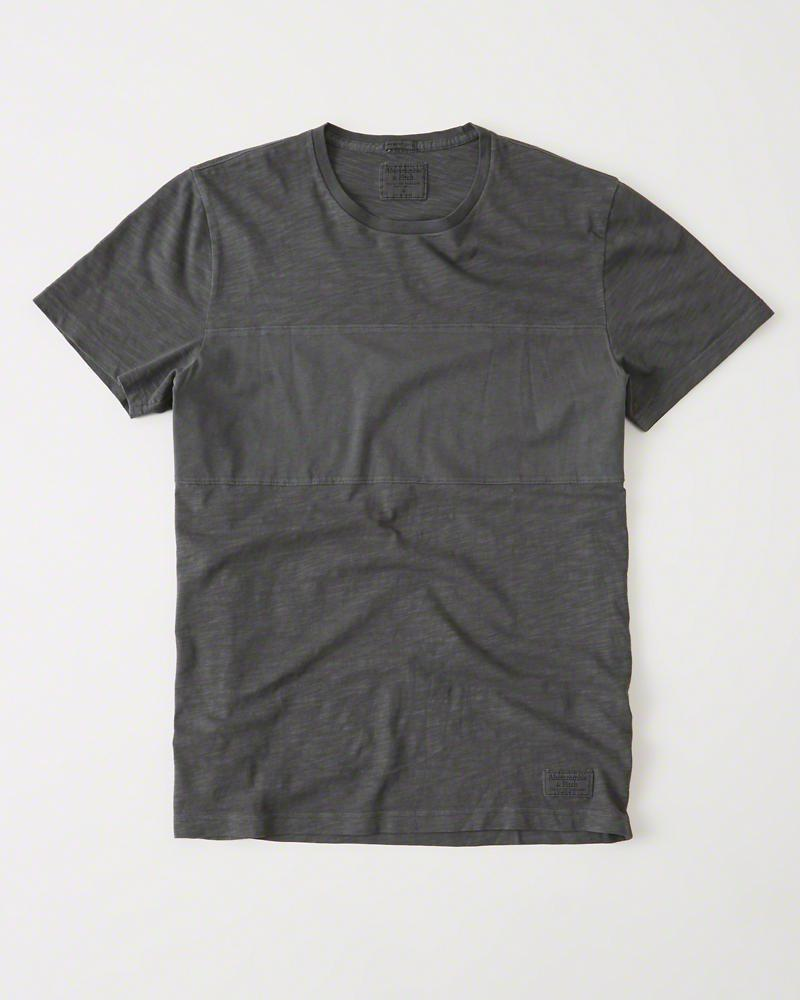teeshirt: (33, 110, 800, 862)
